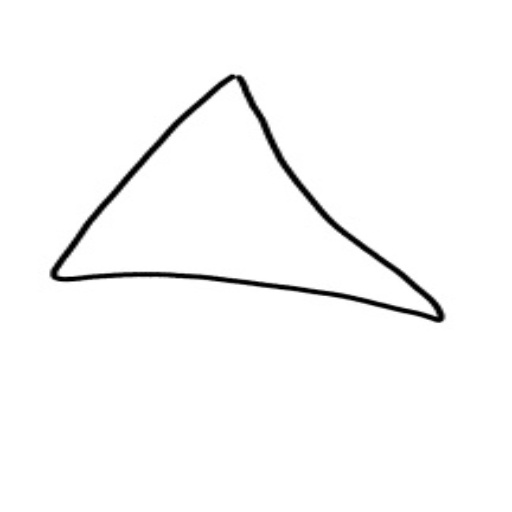triangle: (33, 67, 447, 481)
